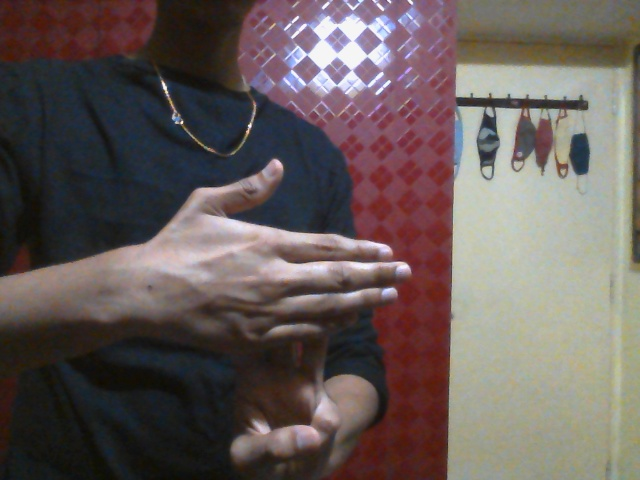M: (179, 159, 411, 475)
